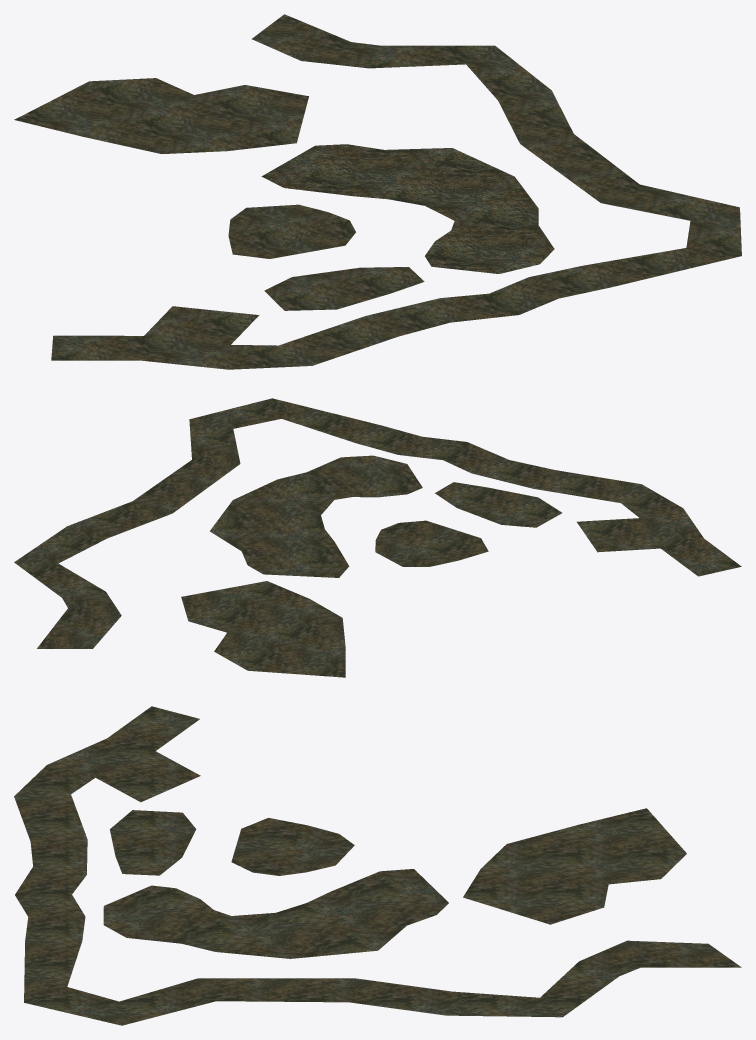
Rendered from water5.fbx.
3 views of the same model, one above another, from view 1: azimuth 30°, elevation 25°; view 2: azimuth 150°, elevation 25°; view 3: azimuth 270°, elevation 25° (orthographic). The views are drawn at different scales.
Parts seen in each view (by area): view 1: water5; view 2: water5; view 3: water5.
Part boxes in pixels (x1=…): water5: x1=14, y1=14, x2=741, y2=369; water5: x1=14, y1=398, x2=741, y2=677; water5: x1=14, y1=706, x2=741, y2=1025.
Bounding box in the file's own units: 27149 × 386 × 26141.
